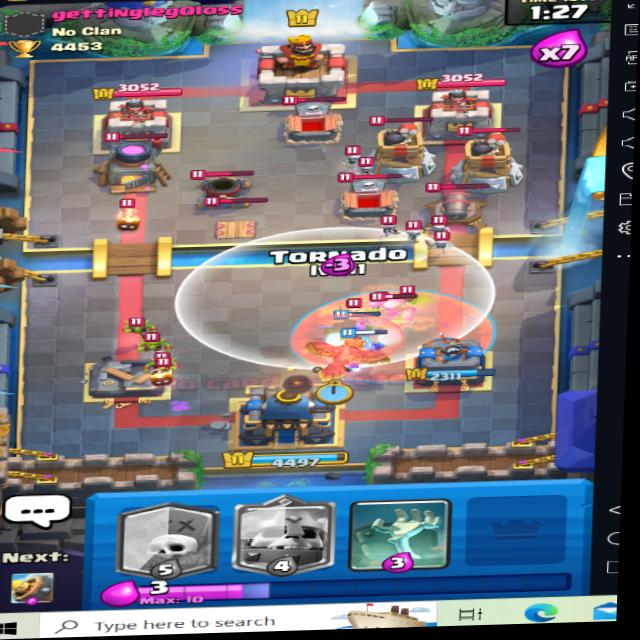bomb-tower: (366, 113, 440, 182), (455, 123, 532, 188)
brawler: (361, 288, 419, 329)
cannon: (419, 178, 504, 230)
fire-spirit: (101, 197, 150, 236), (142, 360, 179, 388)
furnace: (94, 126, 175, 192)
goblin: (141, 349, 180, 383), (135, 328, 175, 357), (114, 315, 156, 336)
mortar: (187, 166, 265, 205)
skeleton: (425, 232, 462, 260), (374, 211, 407, 239), (334, 146, 369, 169), (357, 154, 386, 179), (429, 213, 458, 237), (400, 217, 428, 239)
tesla-closed: (192, 192, 278, 244)
tombstone: (332, 166, 402, 226), (274, 91, 350, 145)
